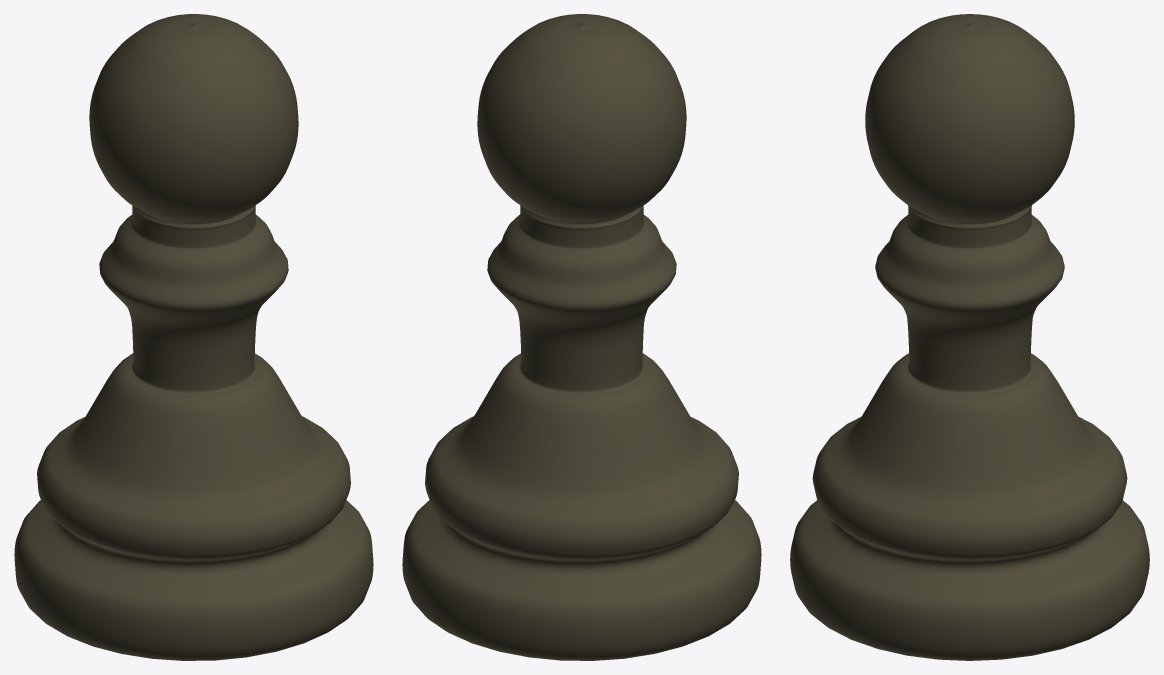
File: white-pawn.obj
3 renders of one model, left to right at view 1: azimuth 30°, elevation 25°; view 2: azimuth 150°, elevation 25°; view 3: azimuth 270°, elevation 25°, orthographic.
Visible parts, largest first — view 1: White_chess_side.010; view 2: White_chess_side.010; view 3: White_chess_side.010.
Boxes of the visible parts, box(x1,y1,x2,y2) form: White_chess_side.010: box(14, 14, 373, 660); White_chess_side.010: box(402, 14, 761, 660); White_chess_side.010: box(790, 14, 1149, 660).
Size of the model in its own units: 1.29 by 2.26 by 1.29.
